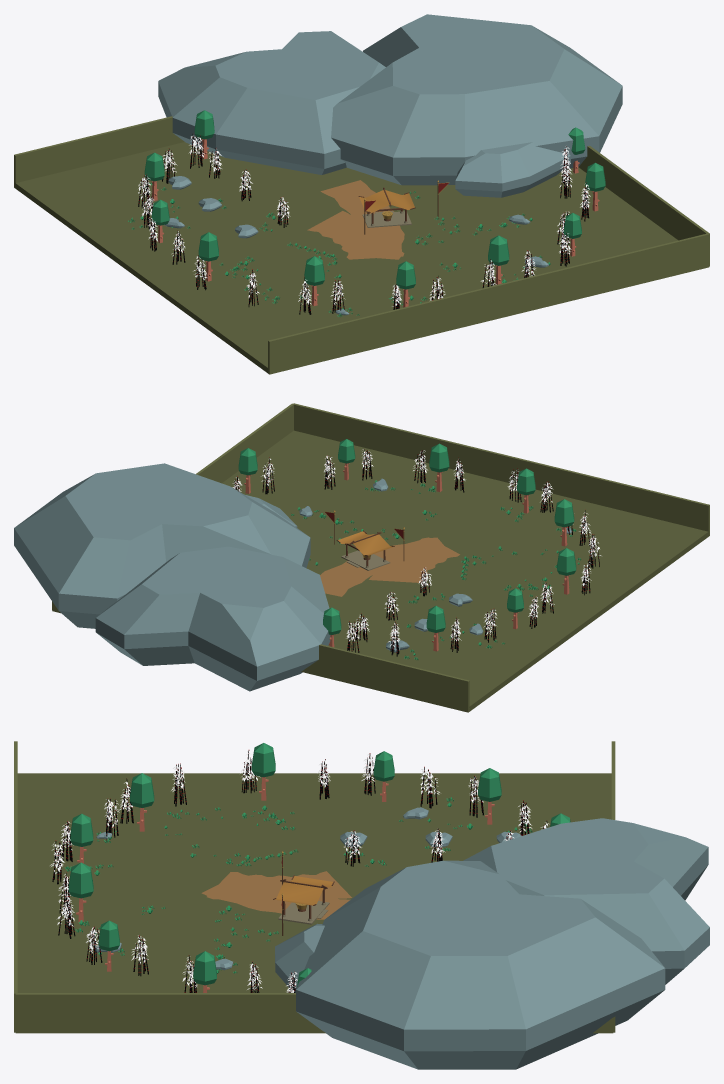
The model's file is DinhSocHoaThanh_Environment.glb.
The picture shows the model from 3 angles, top to bottom: view 1: azimuth 30°, elevation 25°; view 2: azimuth 150°, elevation 25°; view 3: azimuth 270°, elevation 25°; orthographic projection. The views are drawn at different scales.
Visible parts, largest first — view 1: DatLang, stone_largeC9, stone_largeC8, _MeshInstance3D_1534, _MeshInstance3D_1528, stone_largeC7, _MeshInstance3D_1531, _MeshInstance3D_1546, DuongDatUon, SweepingOchreRoof, tree_default_dark5, tree_default_dark7 (+6 smaller); view 2: DatLang, stone_largeC9, stone_largeC8, _MeshInstance3D_1534, _MeshInstance3D_1528, _MeshInstance3D_1531, DuongDatUon, _MeshInstance3D_1546, SweepingOchreRoof, tree_default_dark5, tree_default_dark7, tree_default_dark8 (+4 smaller); view 3: DatLang, stone_largeC9, stone_largeC8, _MeshInstance3D_1531, DuongDatUon, stone_largeC7, _MeshInstance3D_1546, _MeshInstance3D_1534, SweepingOchreRoof, tree_default_dark5, tree_default_dark7, tree_default_dark8 (+6 smaller).
Part boxes in pixels (x1,y1,x2,y2): DatLang: [14, 142, 678, 373]; stone_largeC9: [331, 14, 622, 185]; stone_largeC8: [158, 31, 385, 174]; _MeshInstance3D_1534: [268, 233, 709, 374]; _MeshInstance3D_1528: [14, 116, 184, 187]; stone_largeC7: [455, 142, 570, 197]; _MeshInstance3D_1531: [578, 146, 709, 266]; _MeshInstance3D_1546: [307, 211, 404, 259]; DuongDatUon: [320, 180, 404, 259]; SweepingOchreRoof: [359, 190, 414, 212]; tree_default_dark5: [488, 235, 509, 284]; tree_default_dark7: [304, 256, 324, 305]; DatLang: [222, 430, 709, 711]; stone_largeC9: [14, 463, 310, 628]; stone_largeC8: [95, 546, 330, 691]; _MeshInstance3D_1534: [293, 403, 709, 535]; _MeshInstance3D_1528: [52, 602, 469, 712]; _MeshInstance3D_1531: [52, 403, 293, 609]; DuongDatUon: [320, 537, 446, 596]; _MeshInstance3D_1546: [369, 537, 459, 582]; SweepingOchreRoof: [338, 531, 393, 555]; tree_default_dark5: [429, 443, 449, 491]; tree_default_dark7: [554, 499, 574, 546]; tree_default_dark8: [557, 548, 576, 594]; DatLang: [17, 773, 611, 992]; stone_largeC9: [296, 860, 665, 1069]; stone_largeC8: [463, 818, 709, 984]; _MeshInstance3D_1531: [15, 993, 613, 1033]; DuongDatUon: [201, 876, 350, 919]; stone_largeC7: [275, 923, 324, 992]; _MeshInstance3D_1546: [207, 871, 351, 903]; _MeshInstance3D_1534: [14, 741, 17, 1032]; SweepingOchreRoof: [274, 876, 333, 905]; tree_default_dark5: [68, 862, 93, 922]; tree_default_dark7: [130, 773, 154, 831]; tree_default_dark8: [251, 743, 275, 800].
Size of the model in its own units: 99.09 by 15.72 by 97.82.
